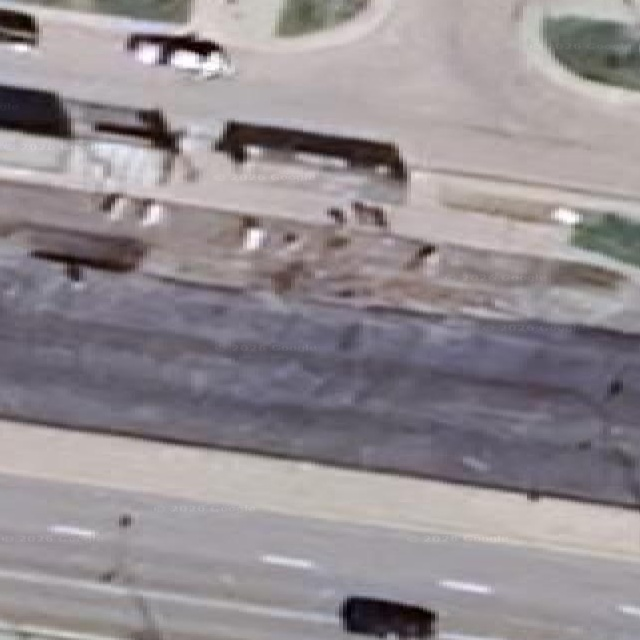car: (23, 224, 143, 272), (125, 32, 233, 77), (340, 595, 435, 639), (0, 84, 71, 140), (99, 192, 163, 226), (0, 8, 37, 51), (125, 32, 168, 63), (352, 200, 386, 227), (98, 192, 128, 220), (136, 198, 163, 226), (68, 272, 74, 279), (37, 147, 40, 148)
